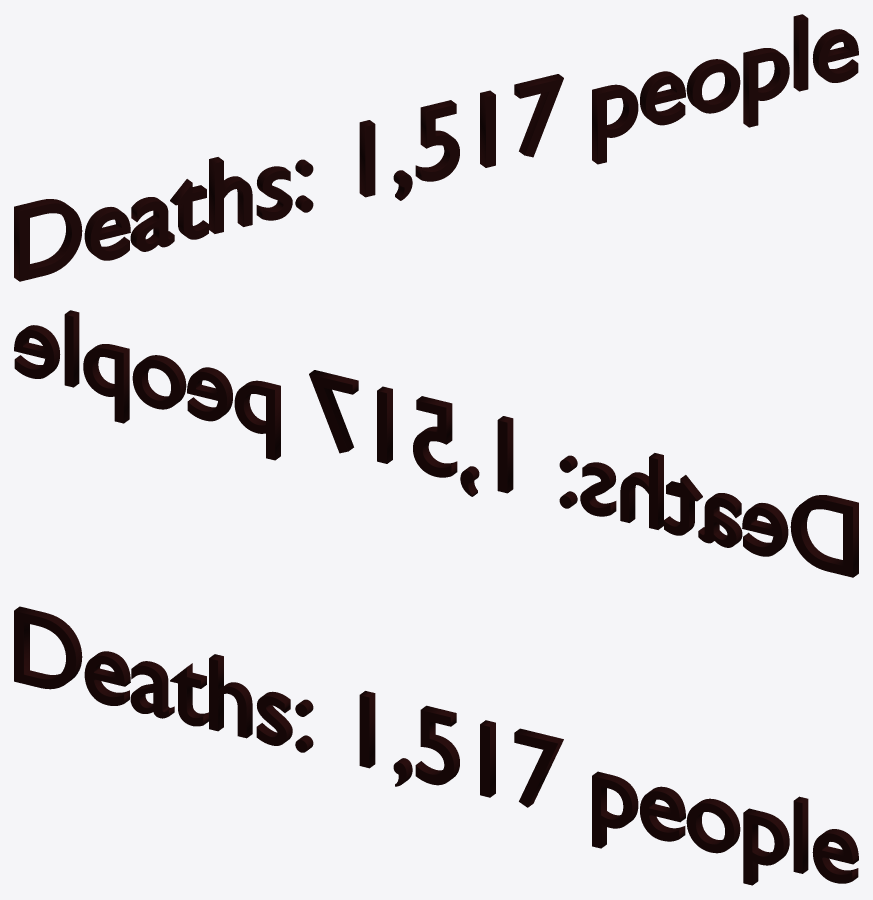
The model's file is text_tragedy03.glb.
3 views of the same model, one above another, from view 1: azimuth 30°, elevation 25°; view 2: azimuth 150°, elevation 25°; view 3: azimuth 330°, elevation 25° (orthographic).
Parts seen in each view (by area): view 1: tragedy03; view 2: tragedy03; view 3: tragedy03.
Part boxes in pixels (<box>): tragedy03: <box>14,14,858,281</box>; tragedy03: <box>14,310,858,577</box>; tragedy03: <box>14,606,858,885</box>.
Bounding box in the file's own units: 146 × 15.75 × 1.79.
